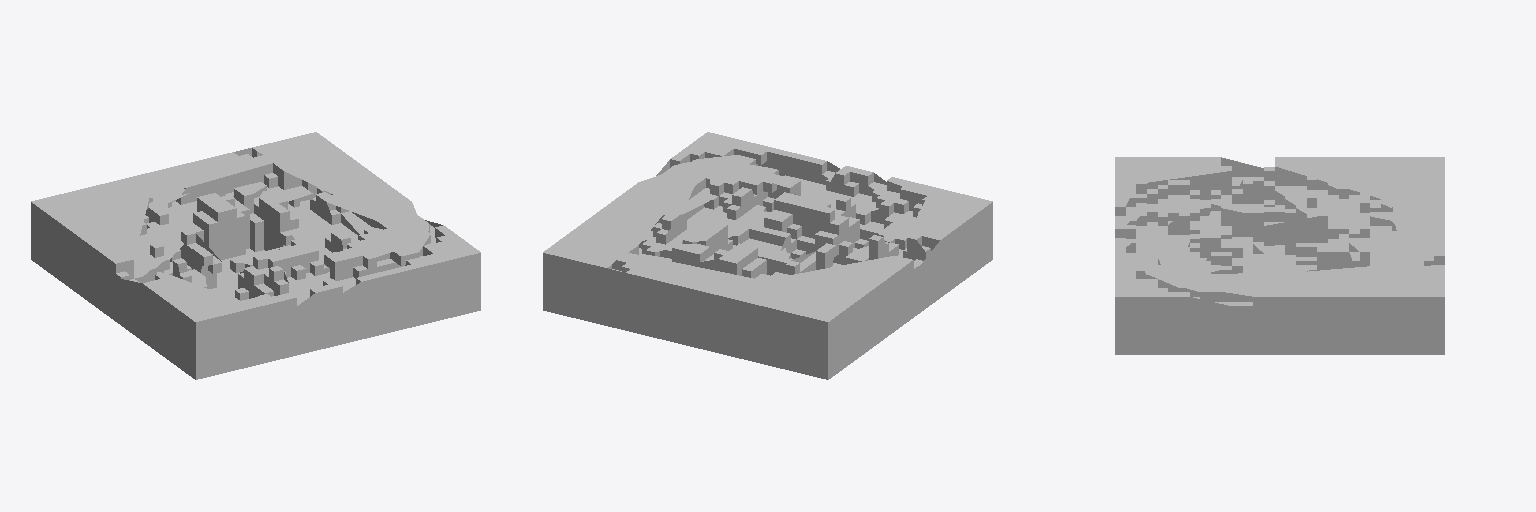
File: Floor_Stairs_Broken.obj
3 renders of one model, left to right at view 1: azimuth 30°, elevation 25°; view 2: azimuth 150°, elevation 25°; view 3: azimuth 270°, elevation 25°, orthographic.
Visible parts, largest first — view 1: Floor_Stairs_Broken_Floor_Stairs_Broken.001; view 2: Floor_Stairs_Broken_Floor_Stairs_Broken.001; view 3: Floor_Stairs_Broken_Floor_Stairs_Broken.001.
Boxes of the visible parts, box(x1,y1,x2,y2) form: Floor_Stairs_Broken_Floor_Stairs_Broken.001: box(31, 132, 480, 379); Floor_Stairs_Broken_Floor_Stairs_Broken.001: box(543, 132, 992, 379); Floor_Stairs_Broken_Floor_Stairs_Broken.001: box(1115, 157, 1444, 354).
Bounding box in the file's own units: 3.1 × 0.6 × 3.1.